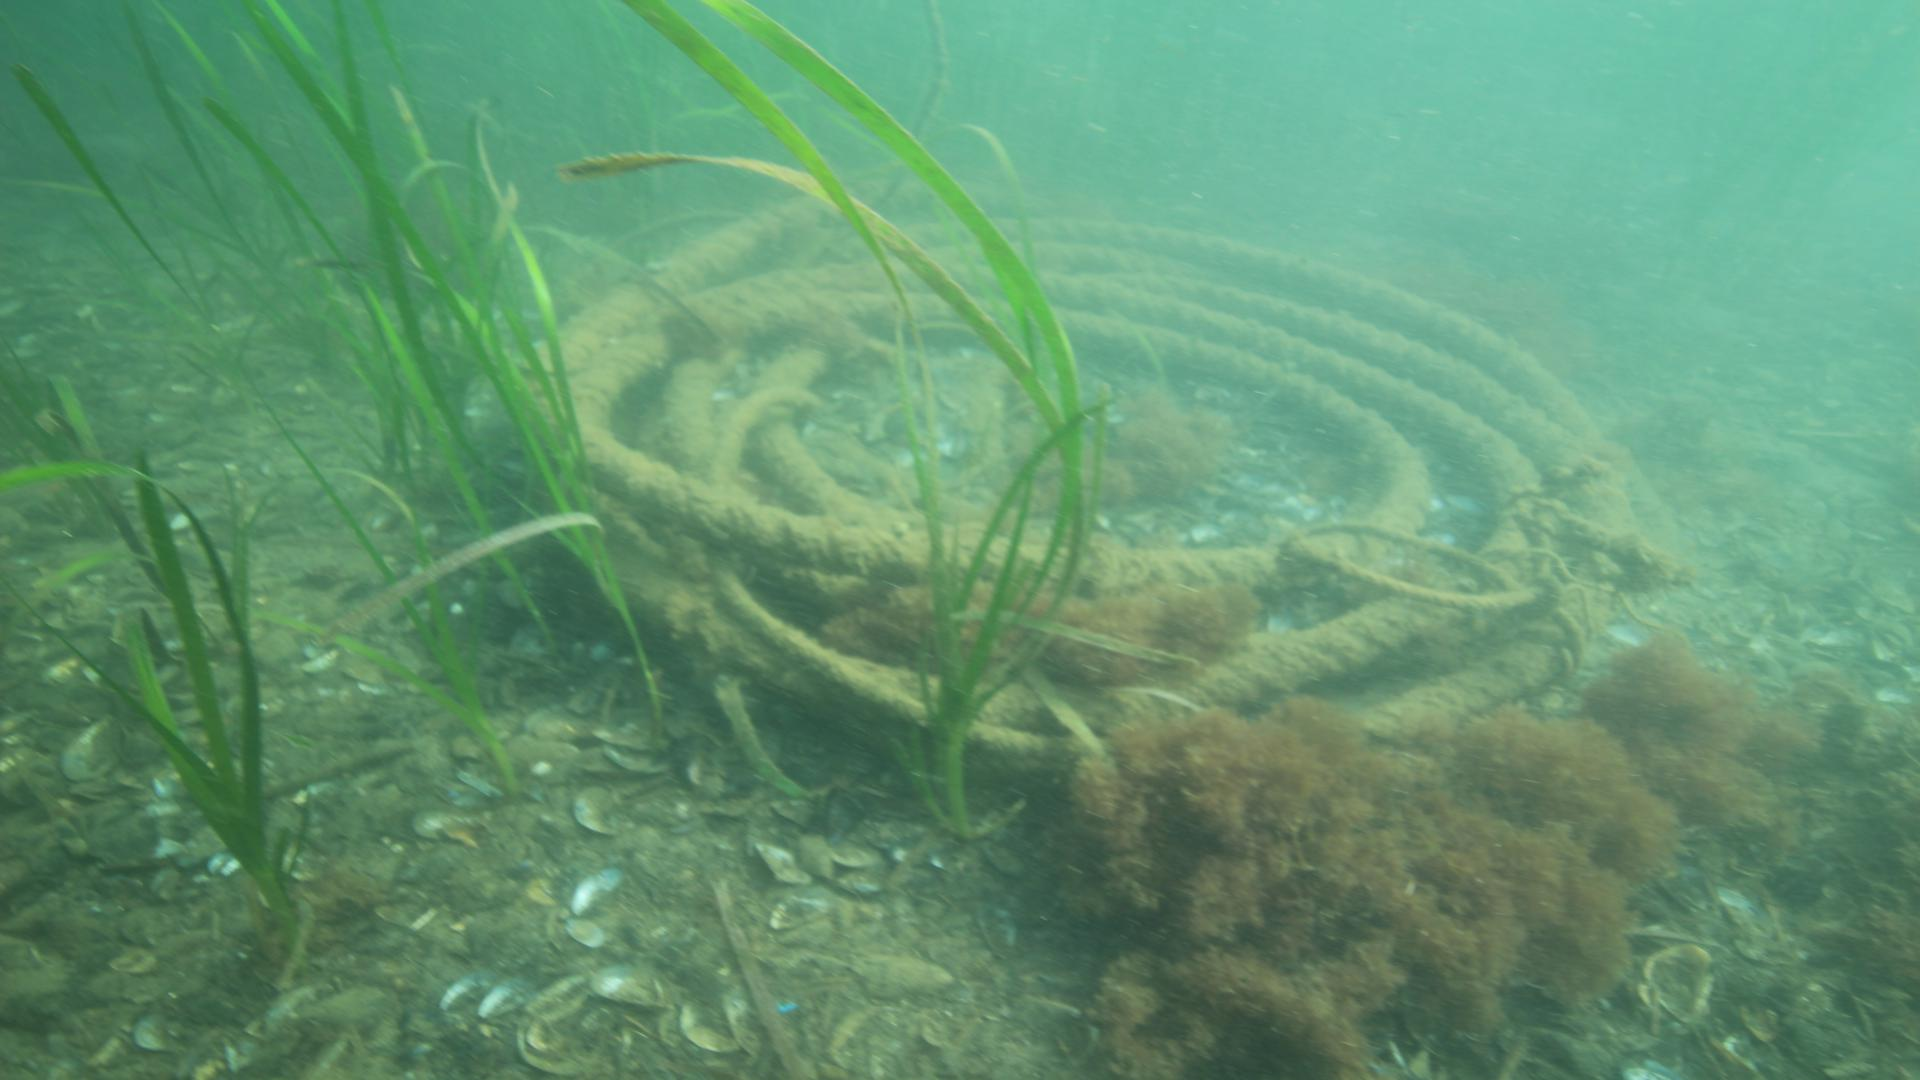bundle of ropes: (516, 189, 1689, 789)
